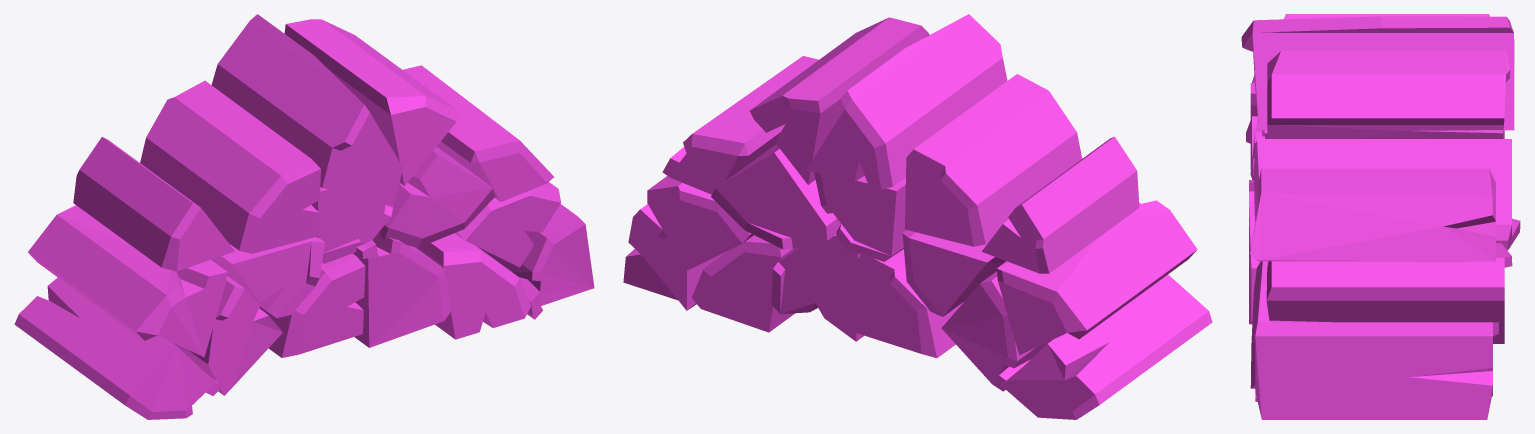
Rendered from SM_Wood_Pile_Wall_Top_Fantasy.fbx.
3 renders of one model, left to right at view 1: azimuth 30°, elevation 25°; view 2: azimuth 150°, elevation 25°; view 3: azimuth 270°, elevation 25°, orthographic. The views are drawn at different scales.
Parts seen in each view (by area): view 1: SM_Wood_Pile_Wall_Top_Fantasy; view 2: SM_Wood_Pile_Wall_Top_Fantasy; view 3: SM_Wood_Pile_Wall_Top_Fantasy.
Part boxes in pixels (bbox=[...]): SM_Wood_Pile_Wall_Top_Fantasy: bbox=[14, 14, 594, 419]; SM_Wood_Pile_Wall_Top_Fantasy: bbox=[623, 14, 1212, 419]; SM_Wood_Pile_Wall_Top_Fantasy: bbox=[1241, 14, 1520, 419].
Bounding box in the file's own units: 1.16 × 0.6501 × 0.5318.
